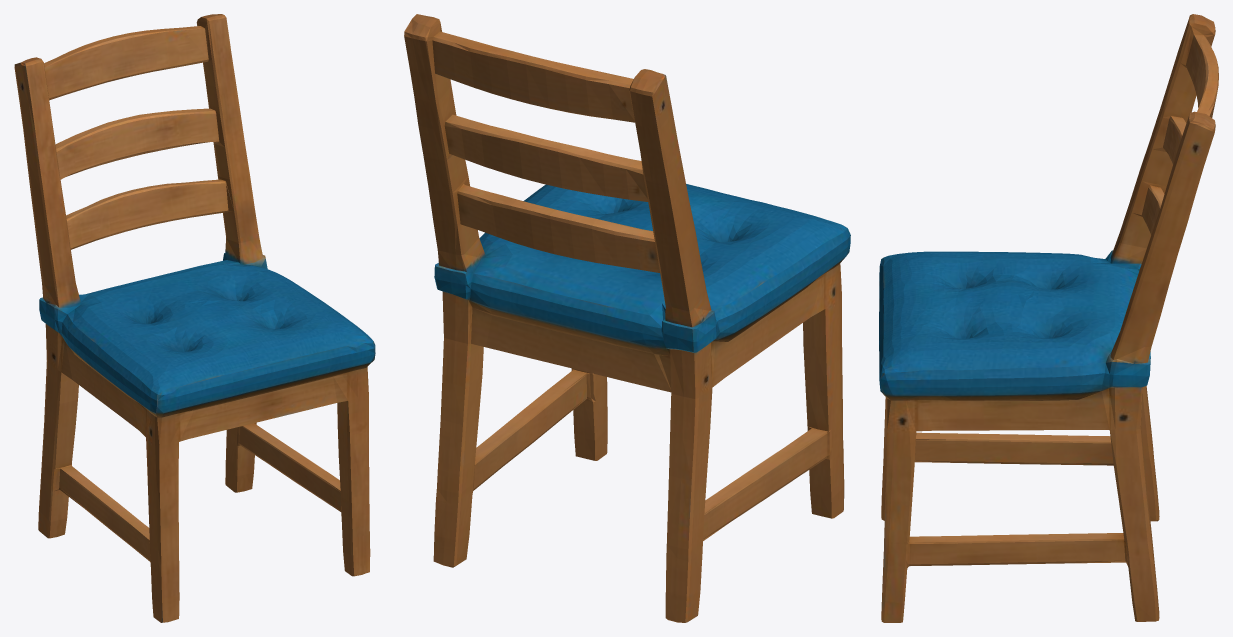
The model's file is chair-artist.glb.
3 views of the same model, side by side, from view 1: azimuth 30°, elevation 25°; view 2: azimuth 150°, elevation 25°; view 3: azimuth 270°, elevation 25° (orthographic). The views are drawn at different scales.
Bounding box in the file's own units: 0.9837 × 1.91 × 1.18.
Materials: 1 (1 with a texture image).
